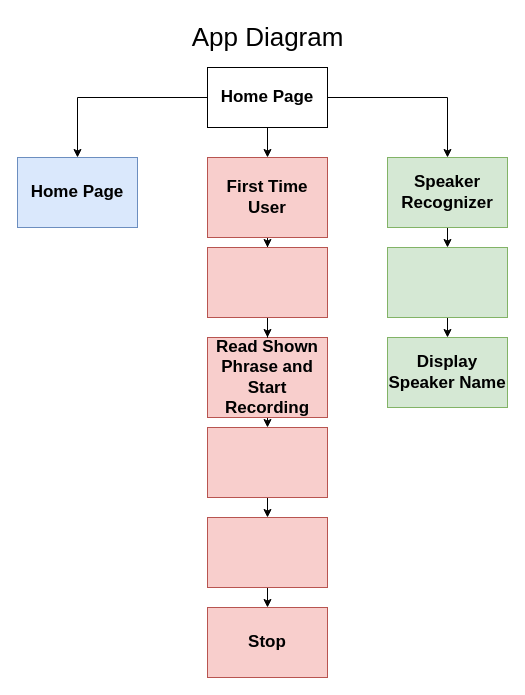
Image size: 525x695. Some labels were removed from this diagram. Here are the shapes that lost their labels. From the top down, the box of each, then its label:
(206, 246, 328, 318): Type in Name
(386, 246, 508, 318): Read Displayed Phrase
(206, 426, 328, 498): Stop Recording
(206, 516, 328, 588): Play
